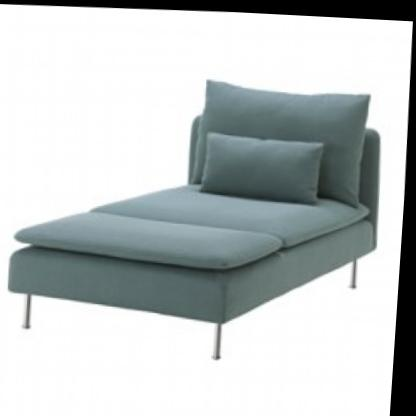Sofa: (0, 51, 394, 384)
